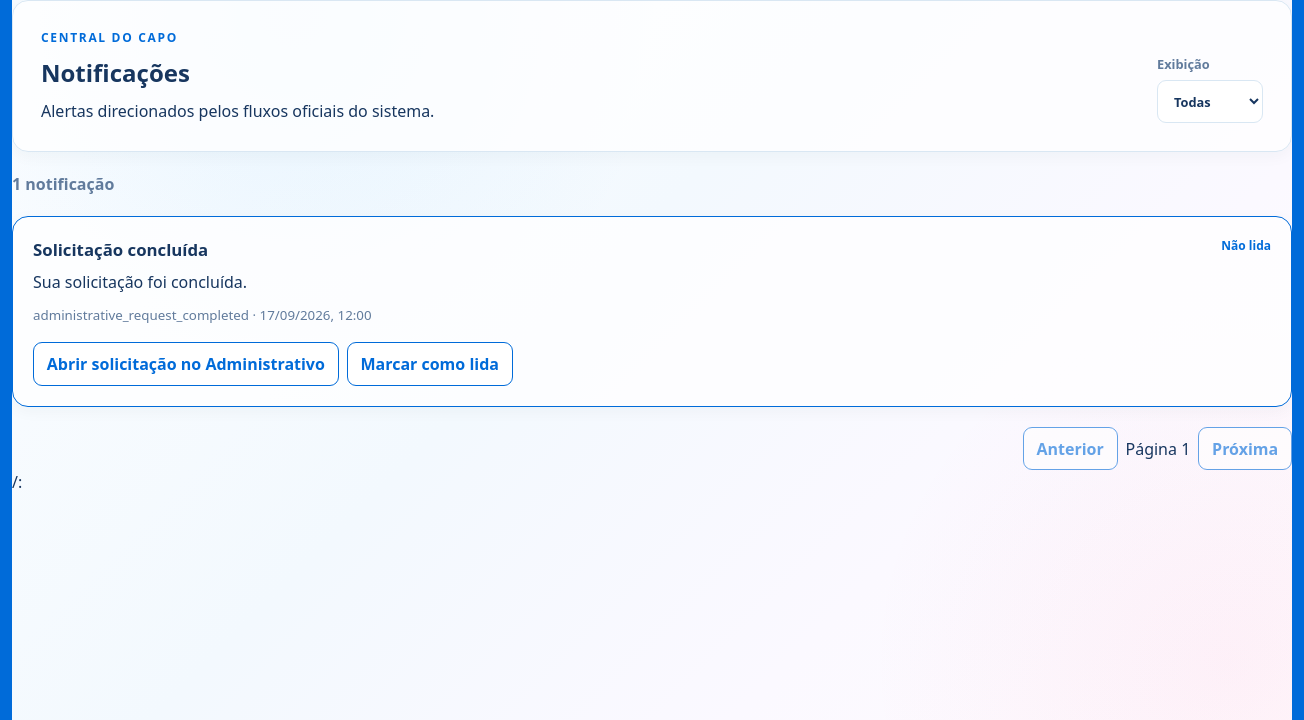
Test: NotificationsPage › abre a solicitação administrativa pelo ID sem confundir leitura com atendimento
Click the button "Abrir solicitação no Administrativo" at (186, 364), box [33,342,339,386]
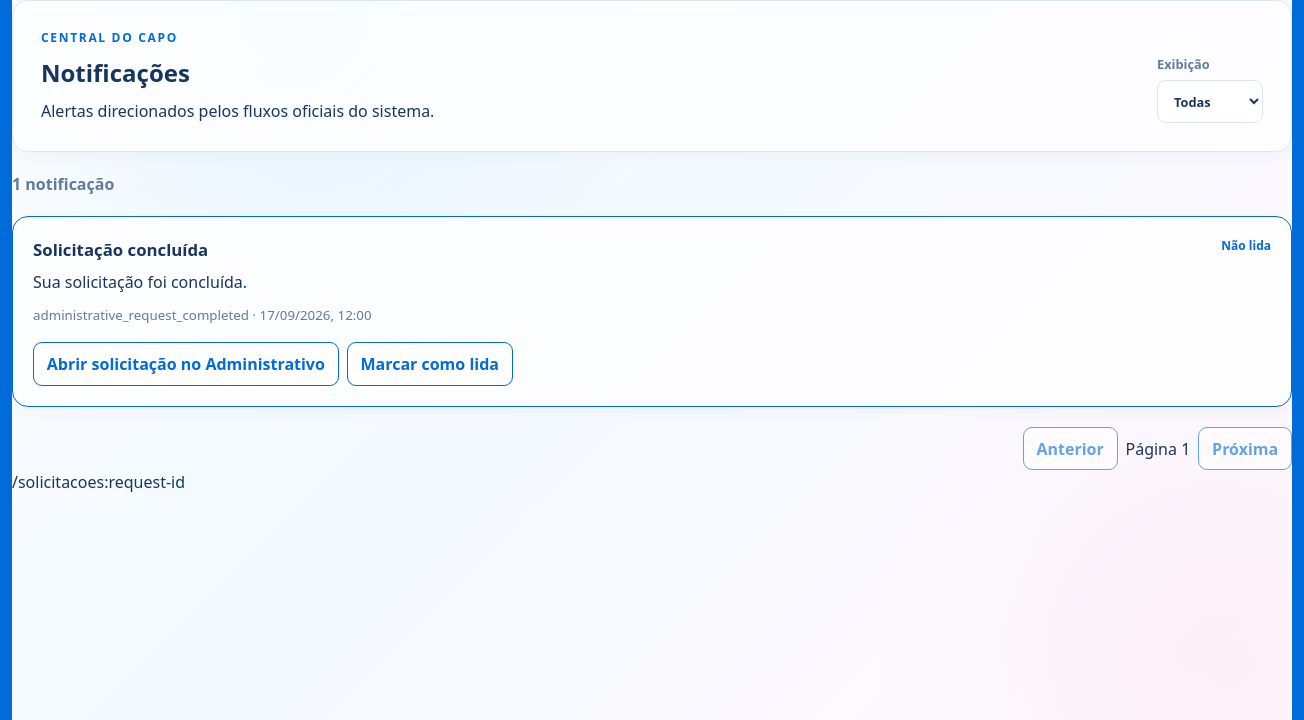
Expected: the text with test id "destination" reads "/solicitacoes:request-id", [12,471,185,493]
